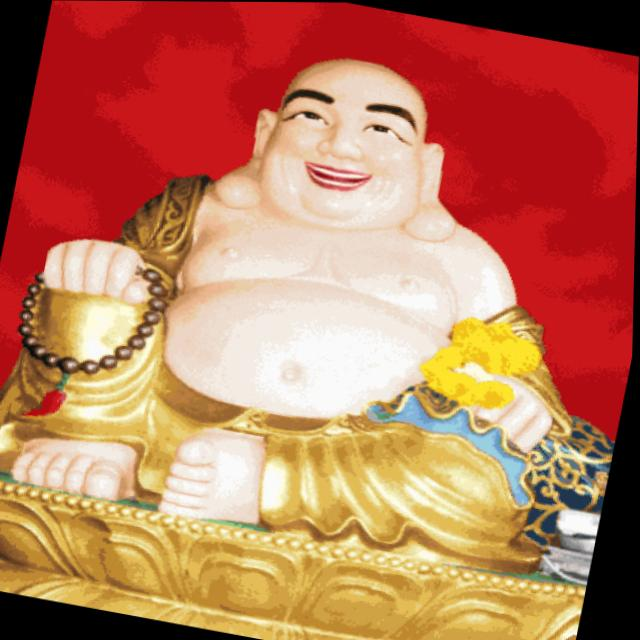Smiling Buddha: (16, 5, 616, 548)
